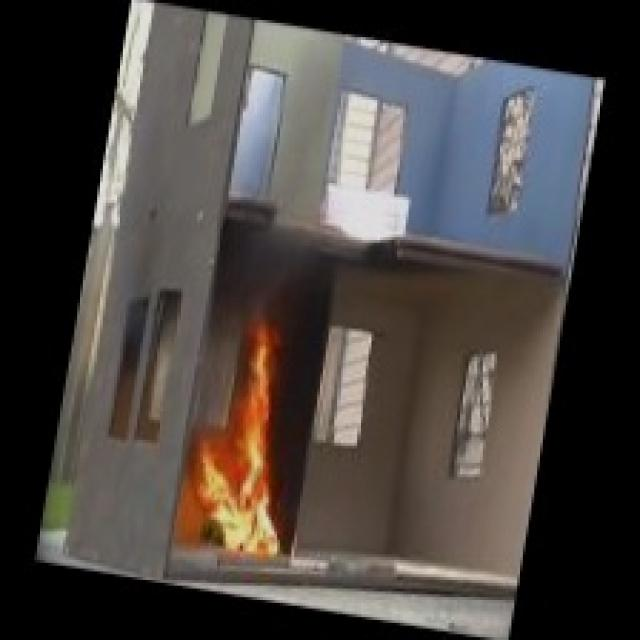fire: (175, 321, 312, 556)
